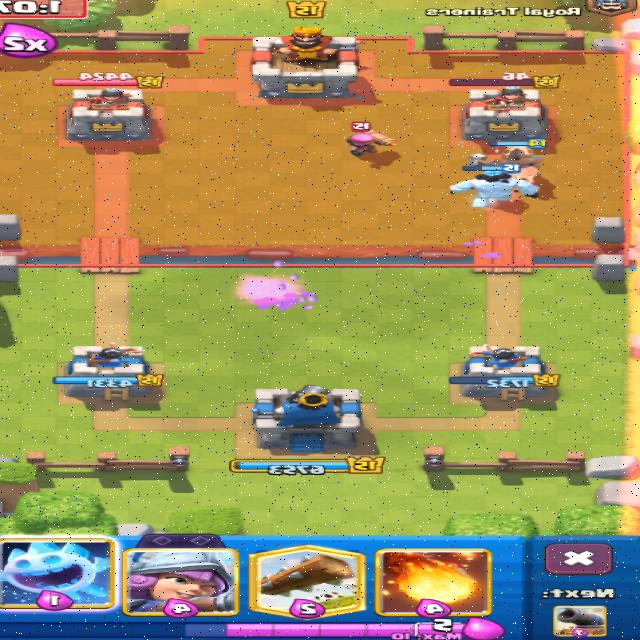Enemy-Firecracker: (348, 123, 395, 155)
Enemy-KingTower: (252, 27, 359, 97)
Enemy-PrincessTower: (463, 90, 546, 145), (68, 87, 151, 142)
Player-HogRider: (470, 147, 542, 182)
Player-IceGolem: (450, 170, 538, 208)
Player-KingTower-Activated: (252, 385, 362, 453)
Player-PrincessTower: (55, 343, 162, 401), (450, 346, 561, 399)
